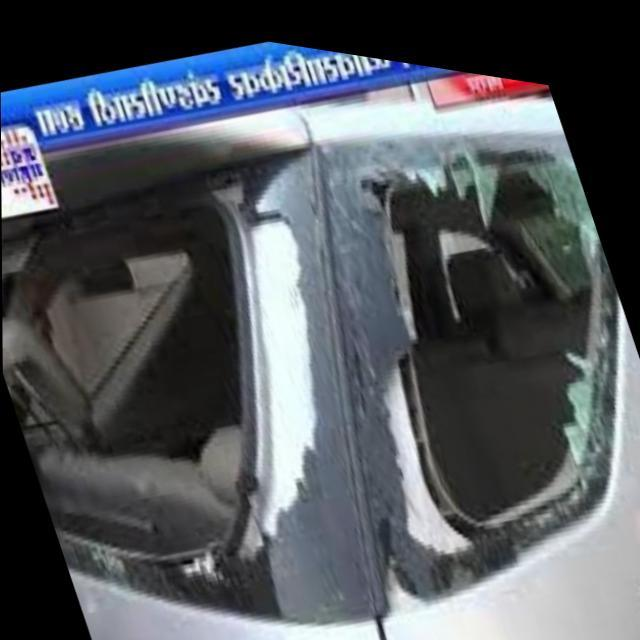glass shatter: (1, 145, 331, 589), (336, 109, 618, 585)
